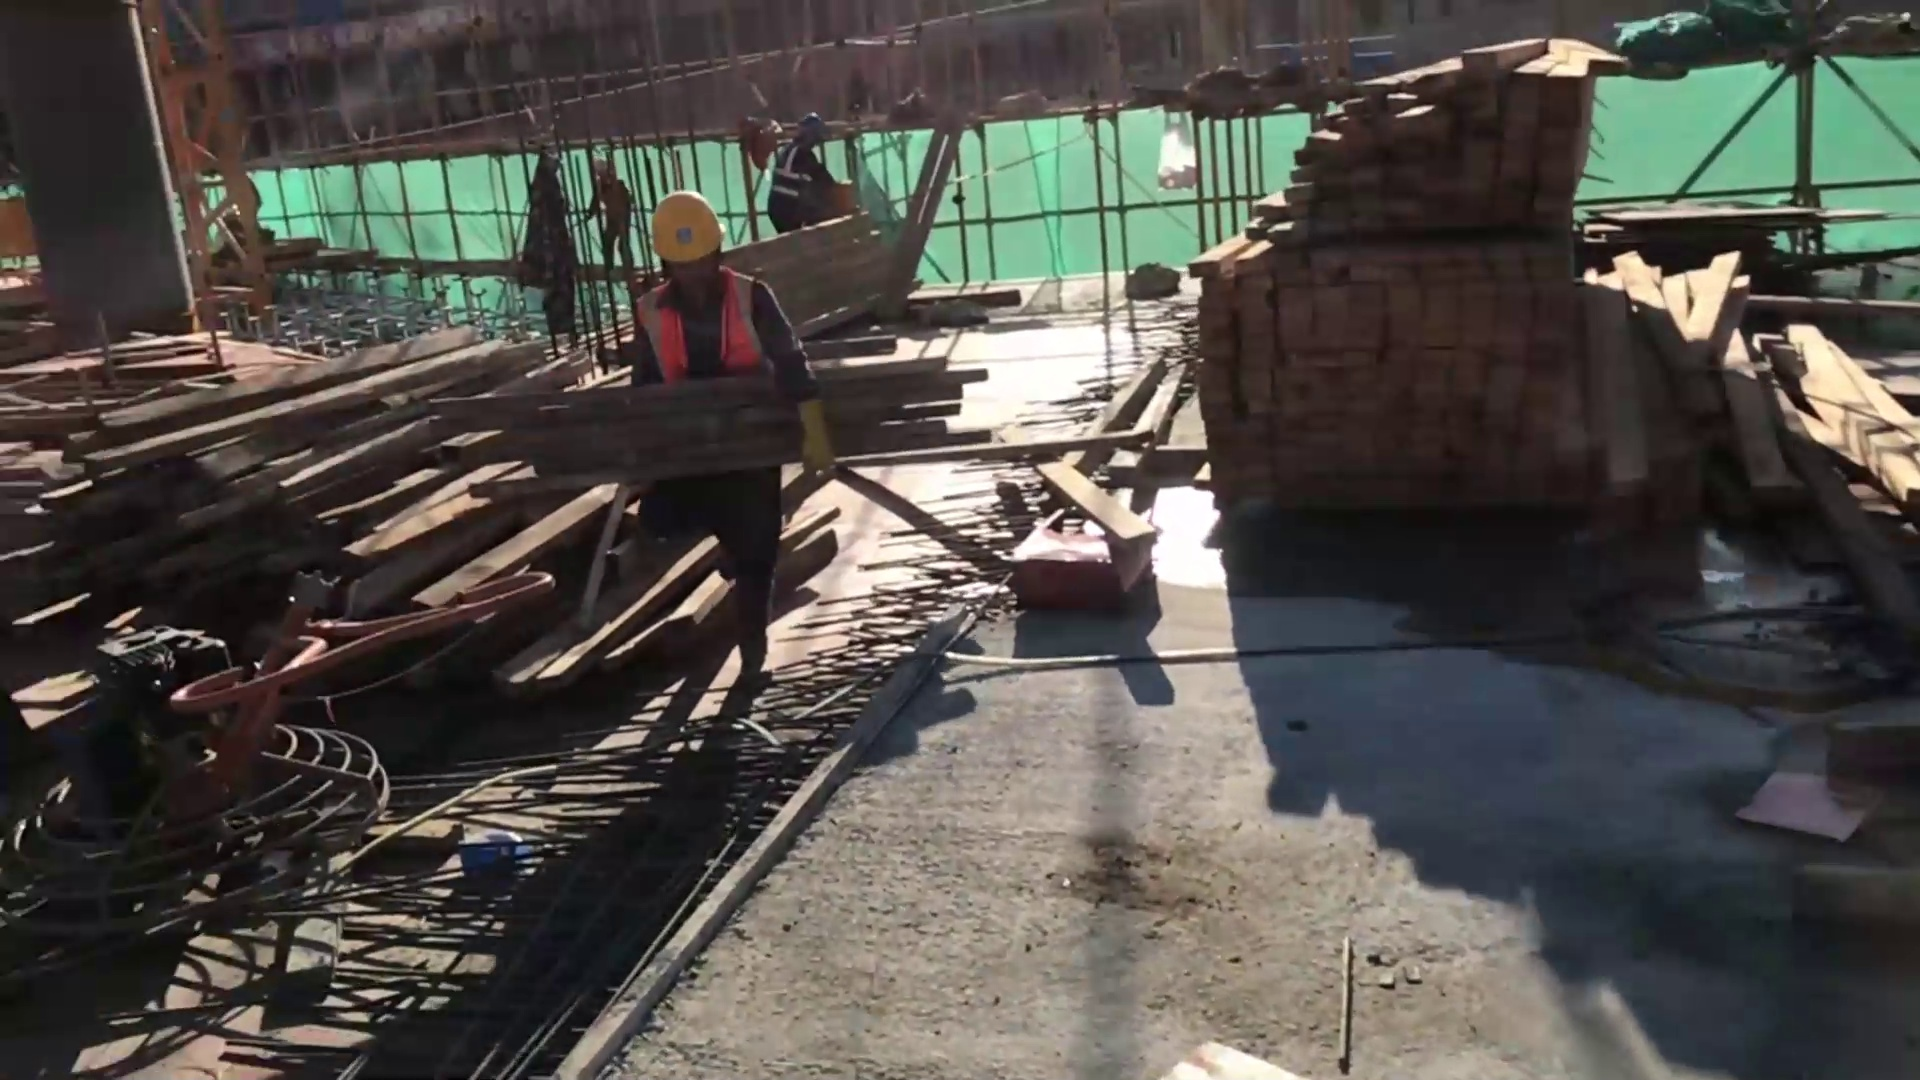helmet: (648, 189, 727, 262)
person: (625, 196, 823, 687), (759, 112, 840, 235), (581, 161, 647, 293)
rebar: (20, 316, 608, 791)
vest: (640, 269, 781, 380)
wood: (1206, 46, 1920, 561)
